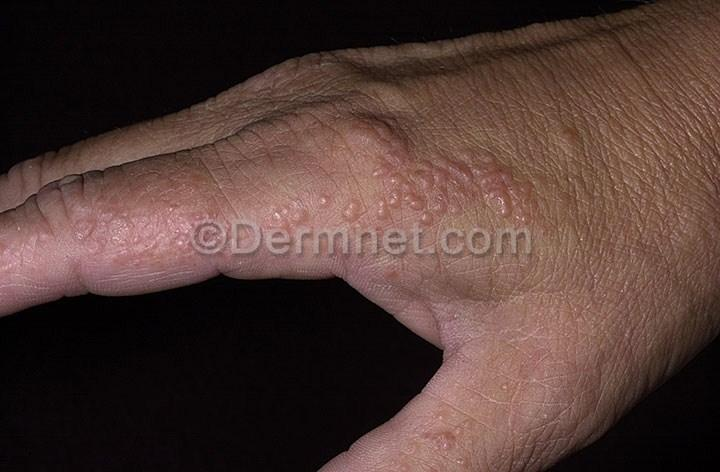Eczema: (342, 108, 557, 213), (400, 381, 502, 472), (86, 219, 201, 297), (99, 153, 234, 218), (229, 153, 341, 228), (11, 208, 81, 291)
